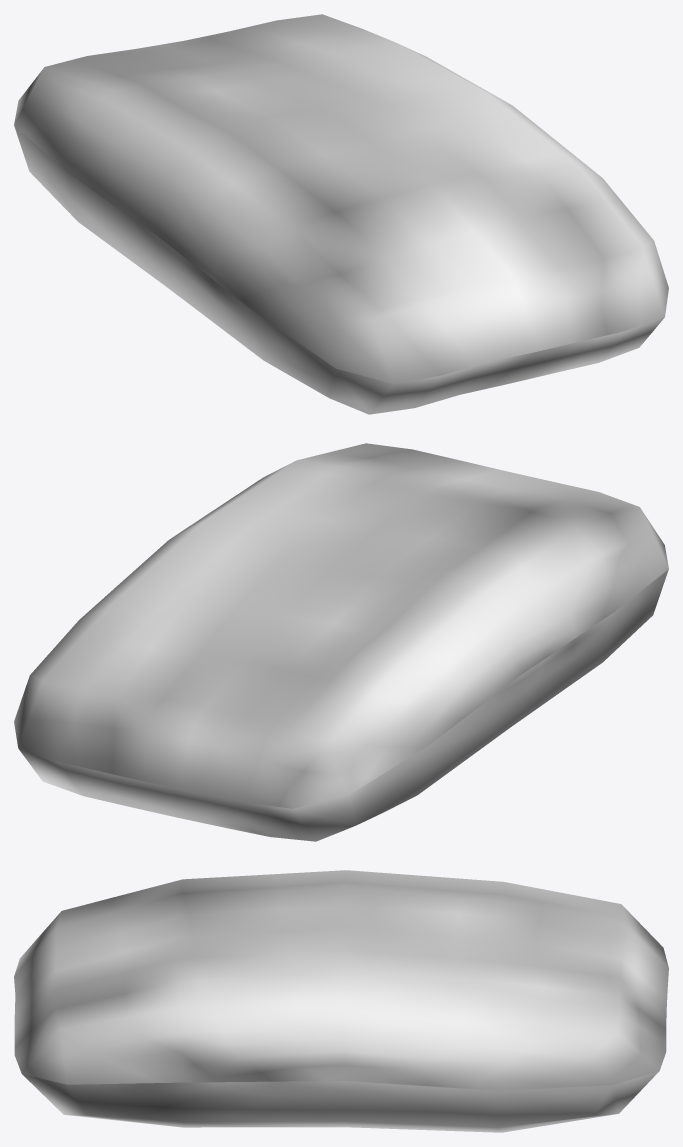
File: Almohada.fbx
3 views of the same model, one above another, from view 1: azimuth 30°, elevation 25°; view 2: azimuth 150°, elevation 25°; view 3: azimuth 270°, elevation 25° (orthographic). The views are drawn at different scales.
Parts seen in each view (by area): view 1: Cube.001; view 2: Cube.001; view 3: Cube.001.
Part boxes in pixels (x1=…): Cube.001: x1=14, y1=14, x2=668, y2=414; Cube.001: x1=14, y1=443, x2=668, y2=841; Cube.001: x1=14, y1=870, x2=668, y2=1132.
Size of the model in its own units: 135 by 61.78 by 243.
